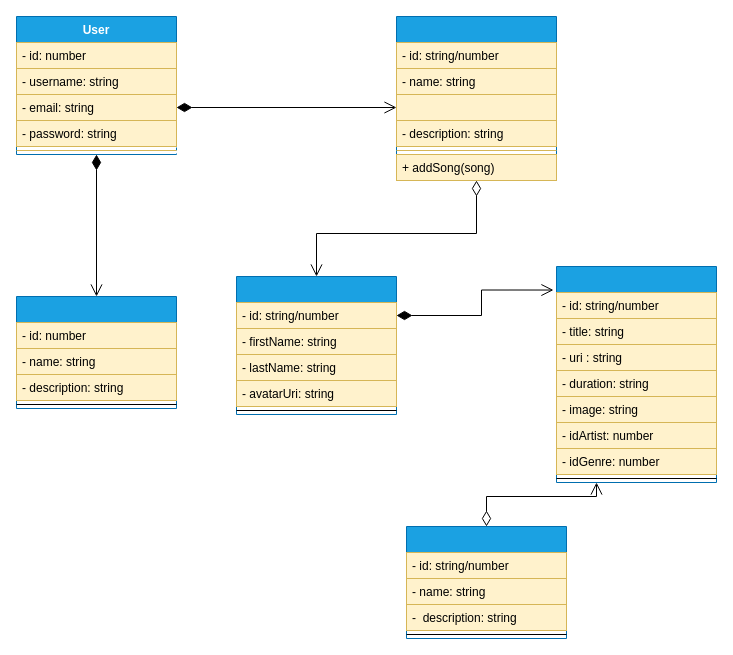
Image size: 733x655. Some labels were removed from this diagram. The box of each missing label's shape, as (x1, y1, x2, y2) in pixels:
- idOwner: string/number: (396, 94, 556, 120)
Artist: (236, 276, 396, 414)
Genre: (406, 526, 566, 638)
Playlist: (396, 16, 556, 180)
role: (16, 296, 176, 408)
Song: (556, 266, 716, 482)
